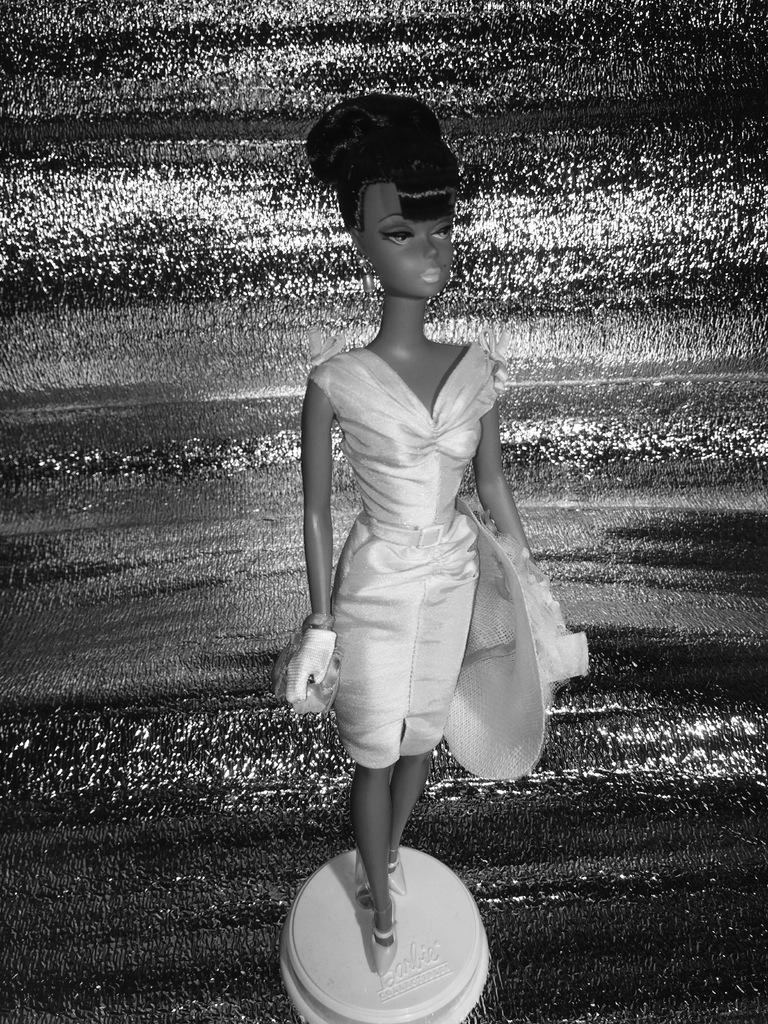face: (372, 164, 454, 300)
